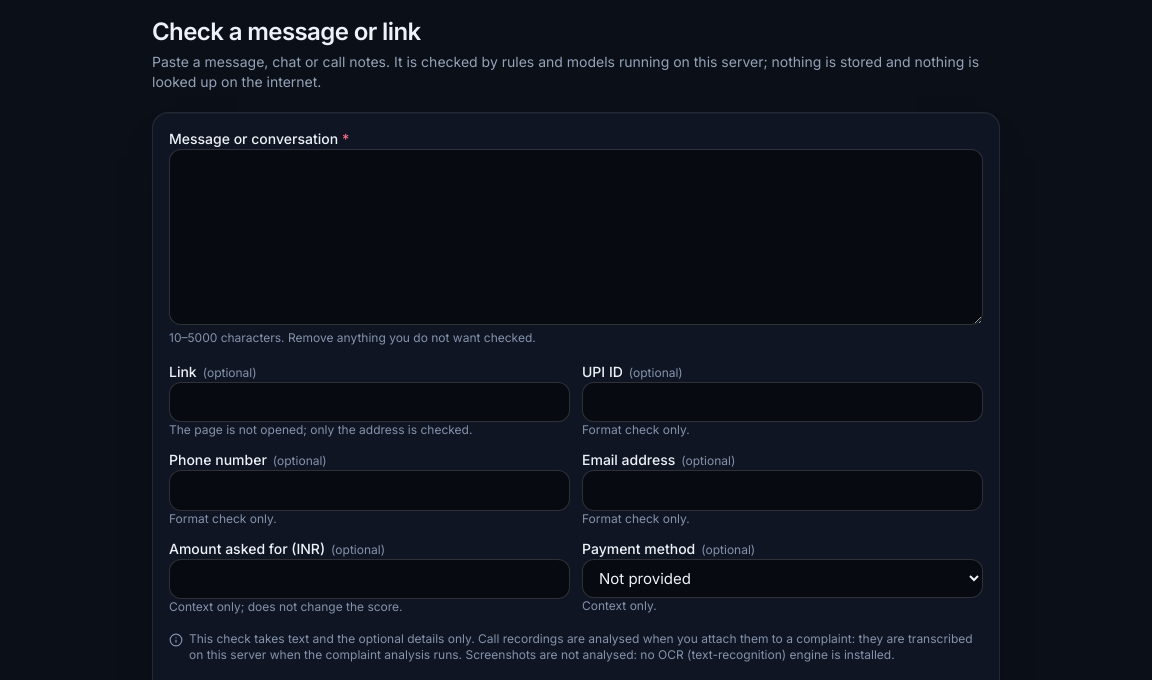
Scenario: check a message or link › submits, shows the result grouped by source, the score semantics and that nothing was stored
This screenshot has width=1152, height=680.
Type "Sir, Transfer your money to the RBI safe account now" into the text box with test id "chk-text" at (576, 237), box 169,149 -> 983,324
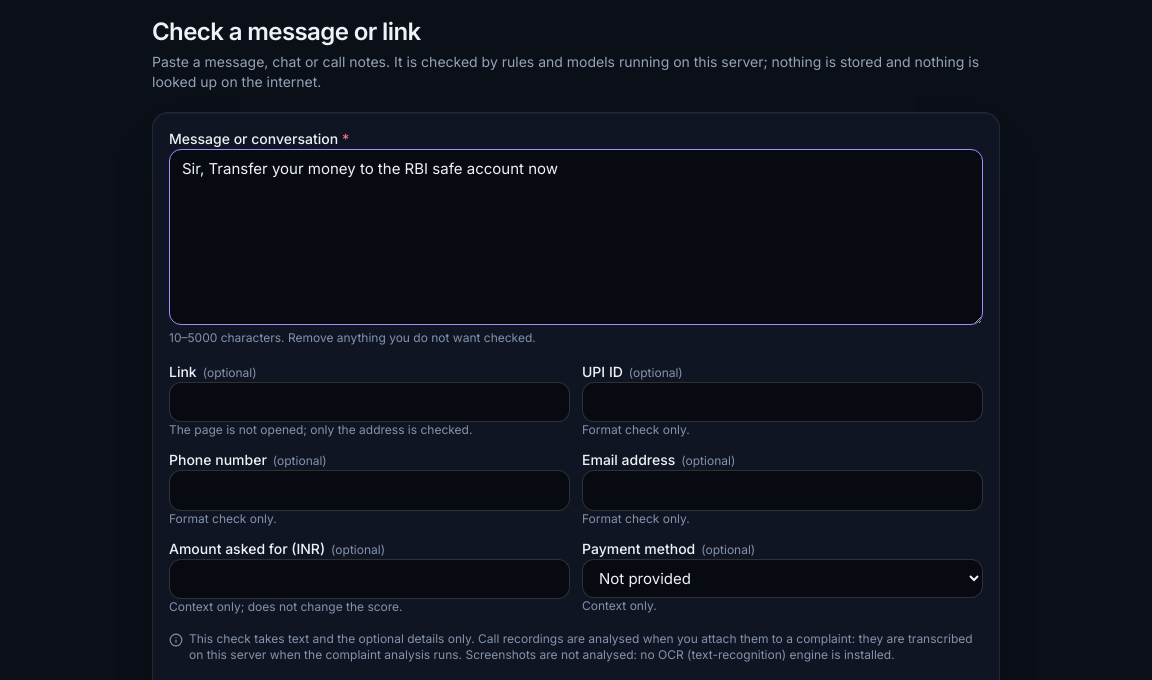
Type "https://bit.ly/x" into the field with test id "chk-url" at (370, 402), box 169,382 -> 570,422
(page scrolled)
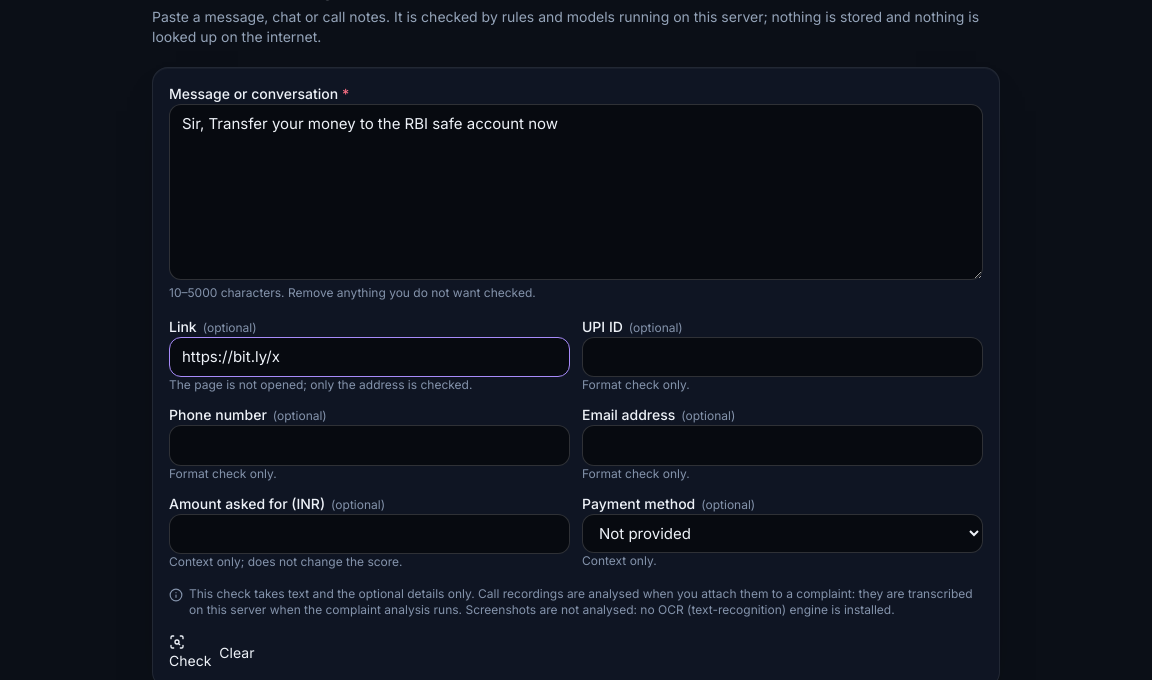
Click the button with test id "chk-submit" at (190, 652), box 169,634 -> 211,671
(page scrolled)
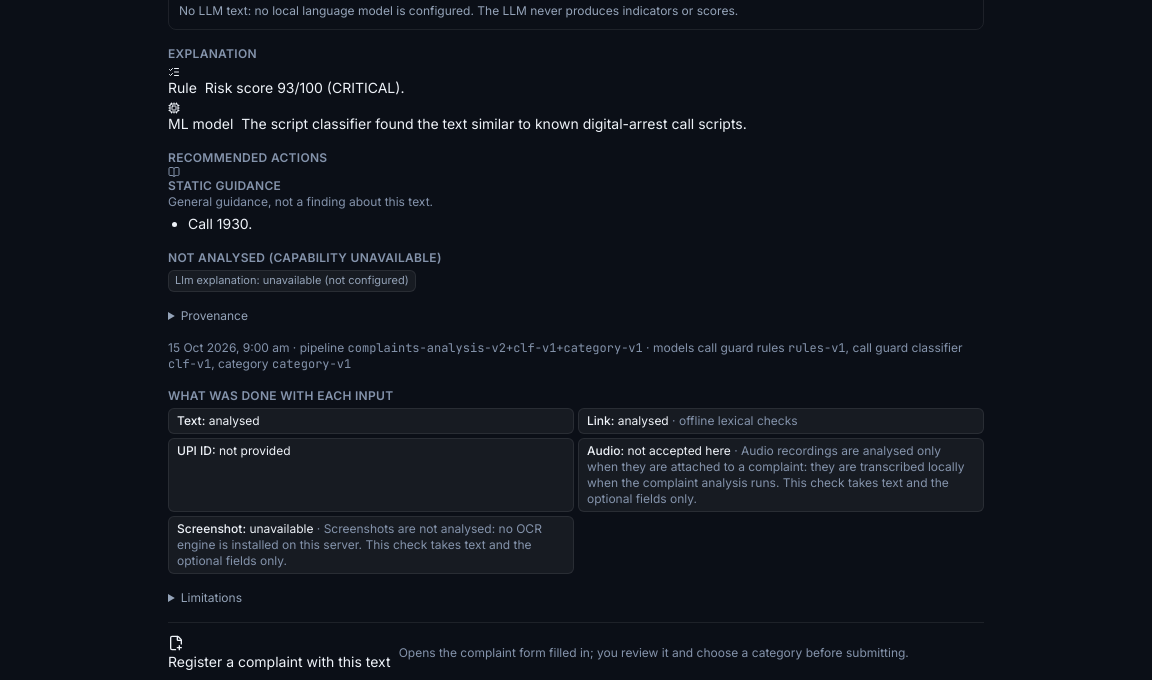
Expected: the element with test id "indicator-group-llm" shows "no local language model is configured", 254,3 -> 470,18
Expected: the element with test id "model-versions" shows "category-v1", 272,356 -> 351,372
